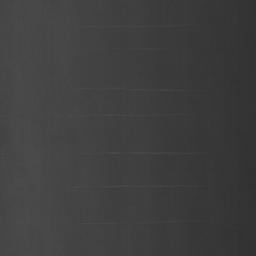Waist folding: (80, 219, 204, 226), (81, 24, 193, 30), (80, 87, 191, 93), (76, 185, 204, 190), (72, 114, 189, 119), (85, 152, 199, 157), (112, 48, 167, 53)
